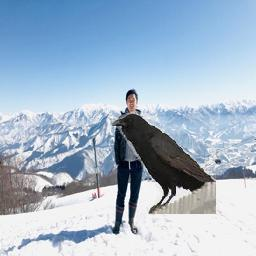Crow: (112, 112, 216, 215)
